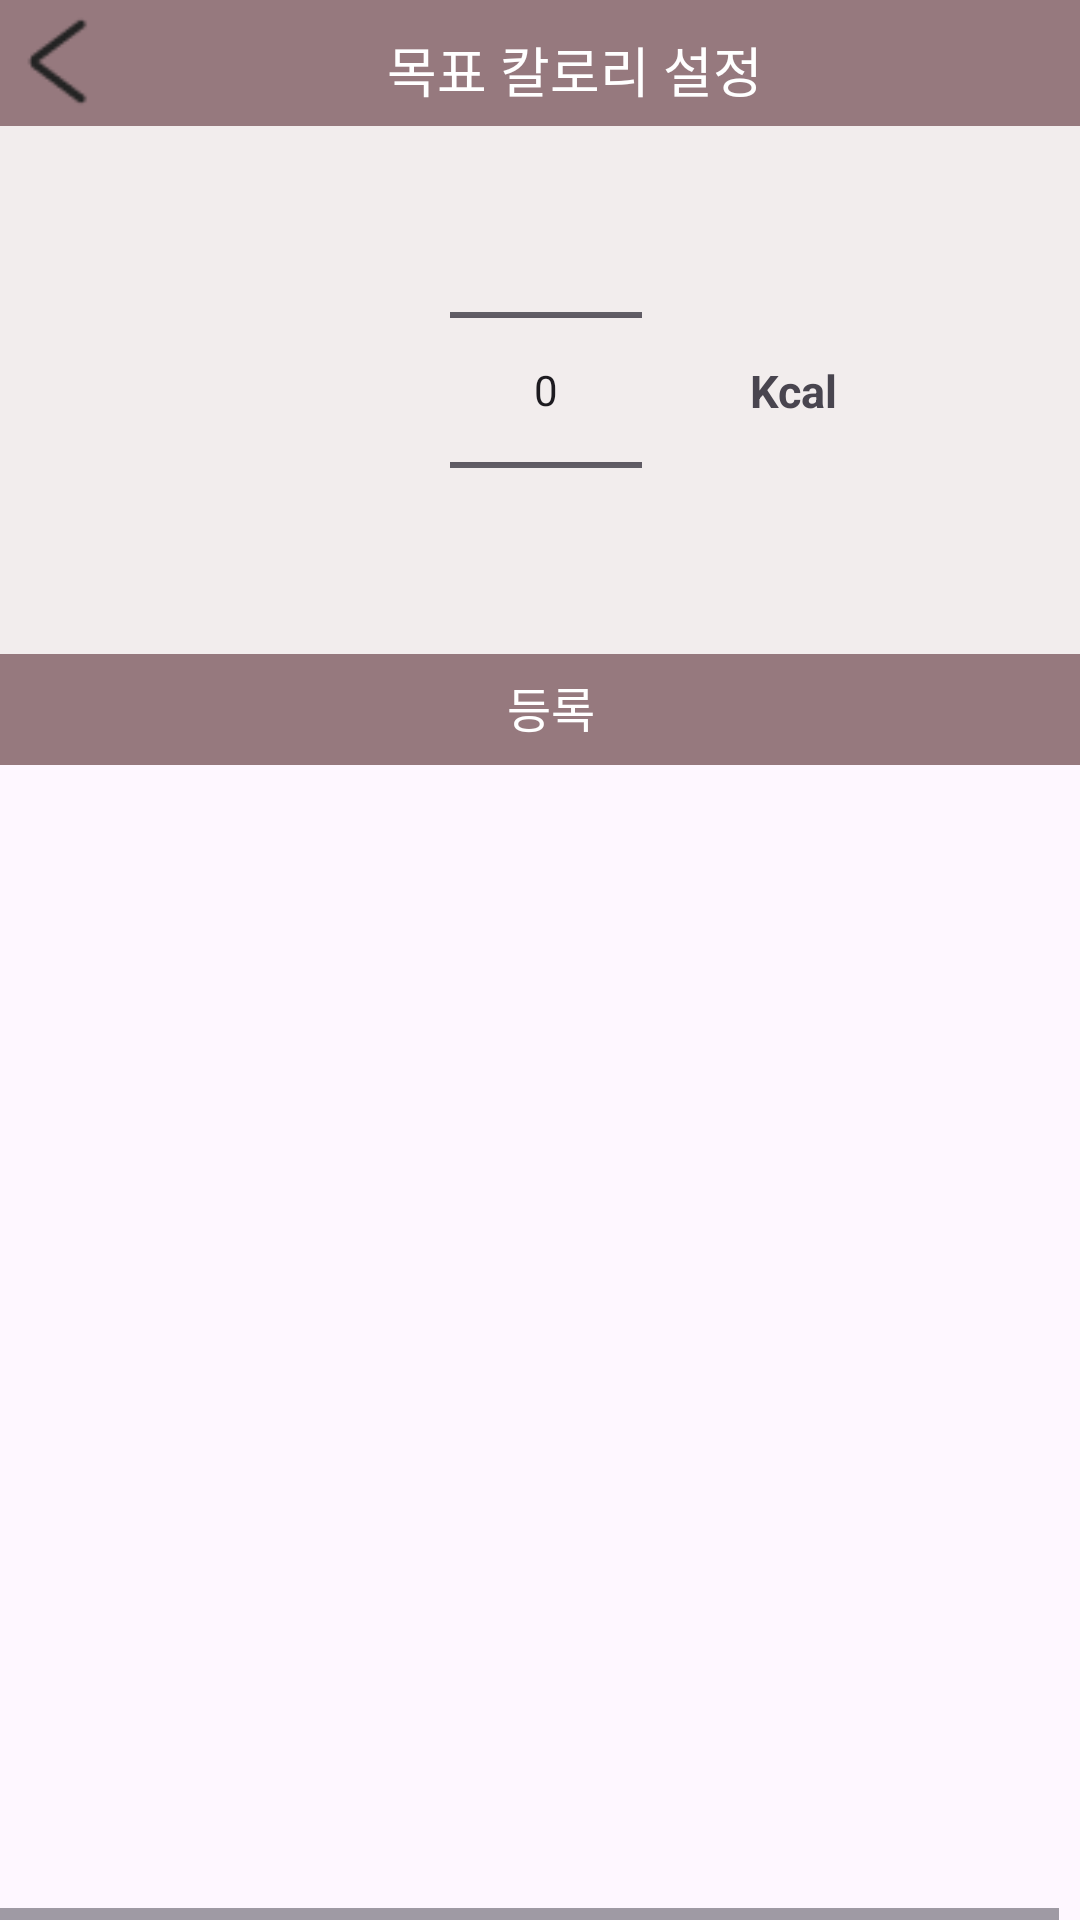

Named icons in this screenshot (1080px×1920px) and their centers, (x,y):
back imagebutton: (58,61)
